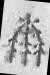F31: (1, 0, 50, 74)
